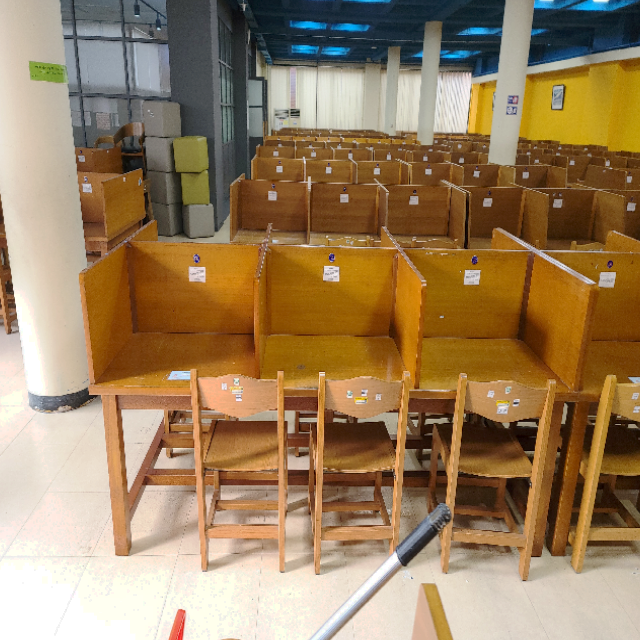empty: (87, 246, 259, 471), (421, 240, 573, 479), (262, 244, 418, 476)
